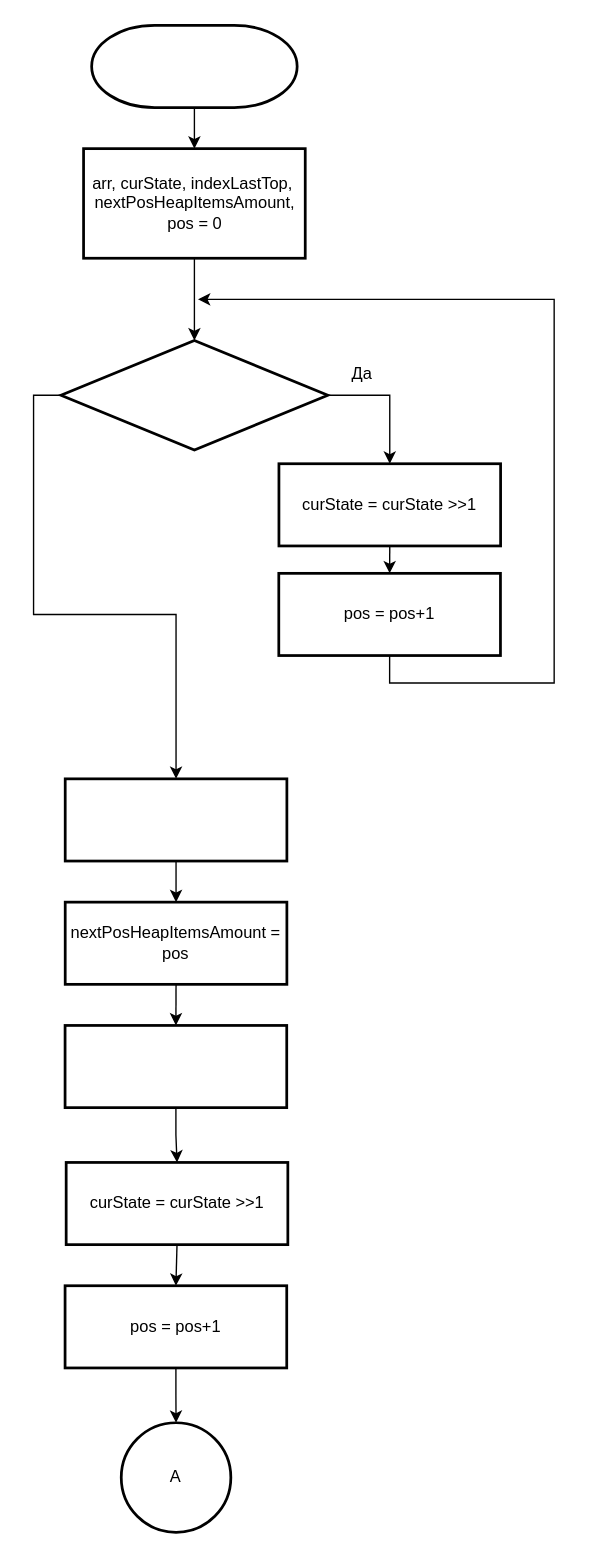
This 589x1556 diagram has some shape labels left out. Each missing label, with the centre of its shape:
!(curState & 1): the point at 194,394
curTopElem = indexLastTop - LeoNum[pos]: the point at 175,1065
posMaxTopElem = indexLastTop: the point at 175,819
Начало: the point at 194,65
